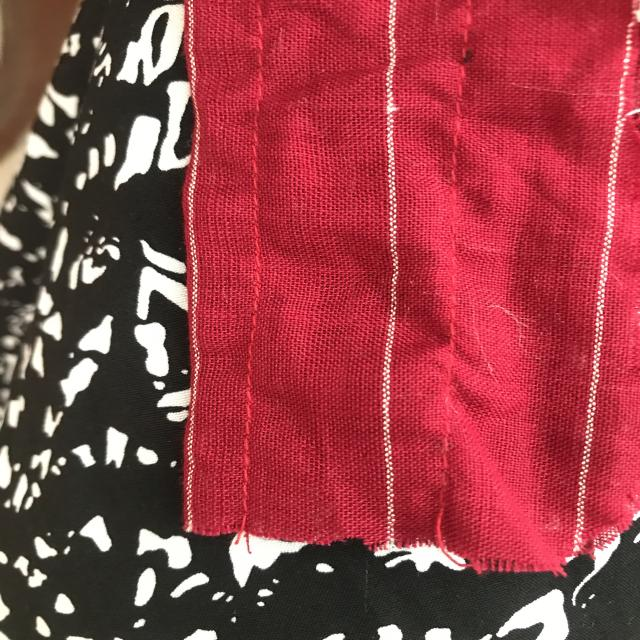good: (222, 353, 264, 511)
